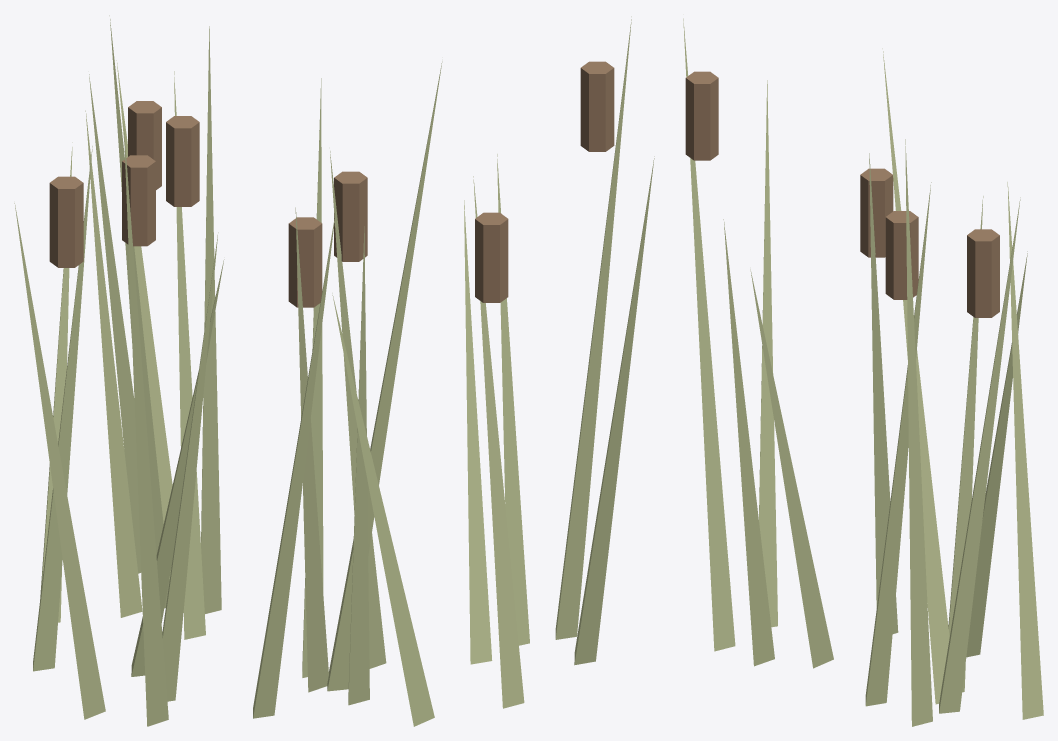
Rendered from Reeds.fbx.
The picture shows the model from 3 angles, left to right: view 1: azimuth 30°, elevation 25°; view 2: azimuth 150°, elevation 25°; view 3: azimuth 270°, elevation 25°; orthographic projection. The views are drawn at different scales.
Visible parts, largest first — view 1: Reeds_Mesh; view 2: Reeds_Mesh; view 3: Reeds_Mesh.
Part boxes in pixels (x1,y1,x2,y2): Reeds_Mesh: [14, 15, 224, 726]; Reeds_Mesh: [253, 16, 654, 726]; Reeds_Mesh: [683, 18, 1043, 726].
Size of the model in its own units: 0.6734 by 1.46 by 0.7668.
